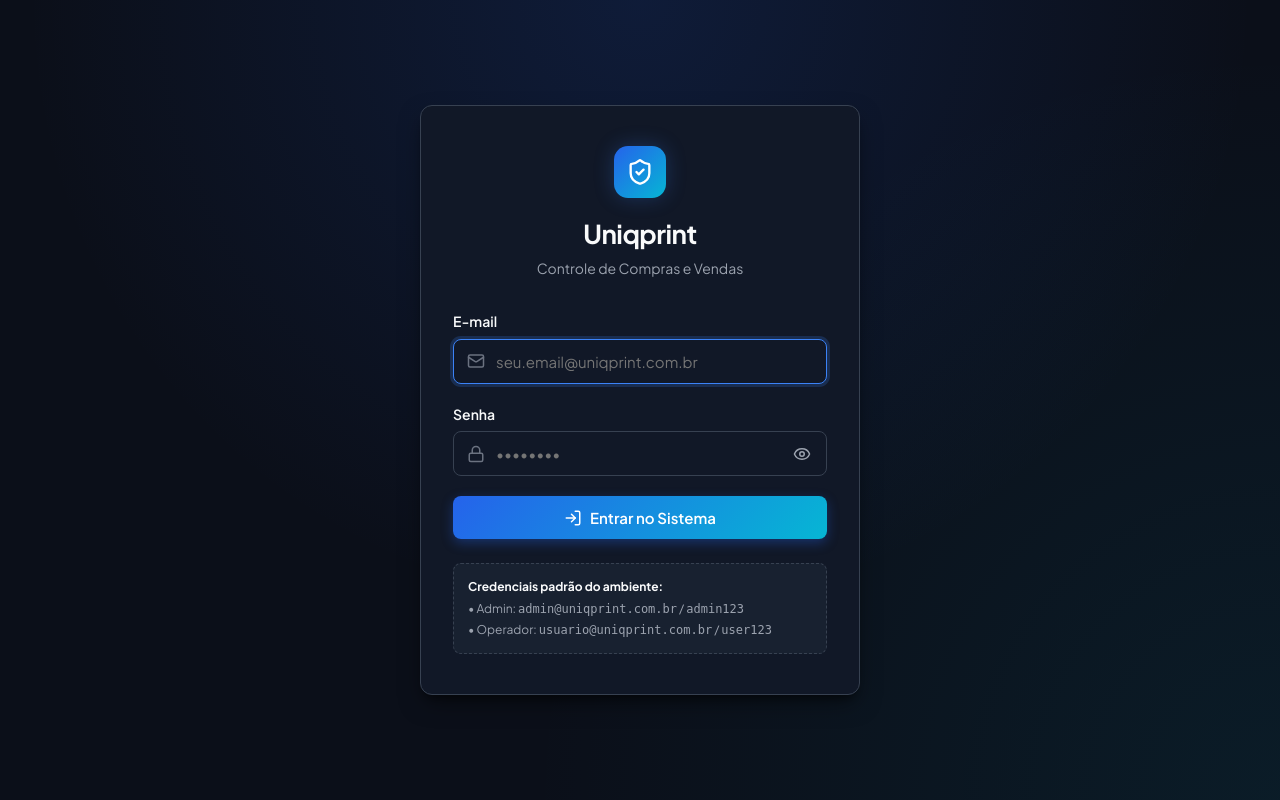
Test case: Tela de Login (Front-end) › deve exibir mensagens de validação ao enviar formulário vazio
Step 1. Click the button with test id "botao-entrar" → (640, 518), box [453,496,827,539]
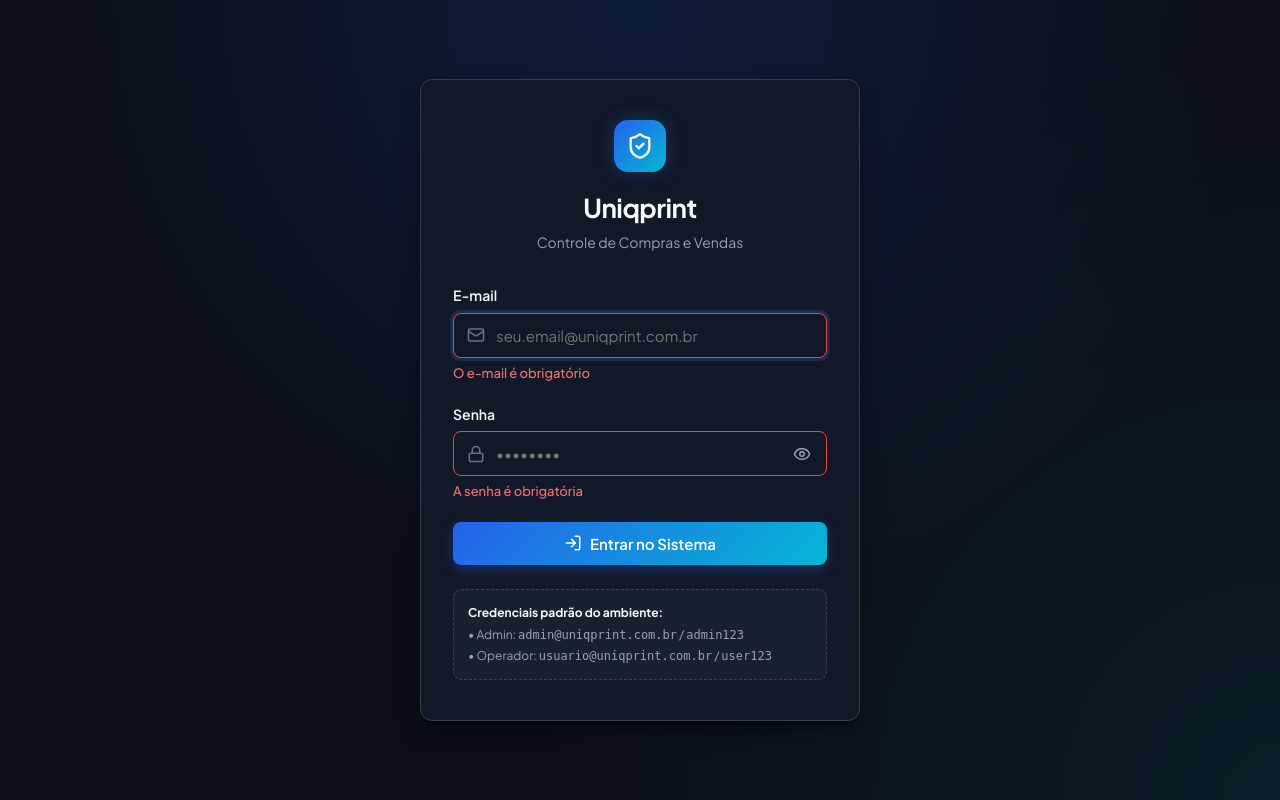
Expected: the text "O e-mail é obrigatório" is shown, [453,365,590,381]
Expected: the text "A senha é obrigatória" is shown, [453,484,583,500]
